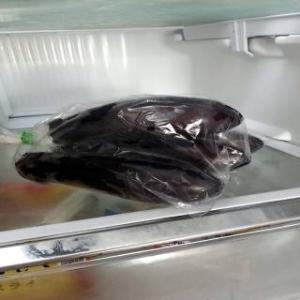eggplant: (16, 149, 198, 203), (47, 96, 241, 142), (54, 137, 250, 175)
